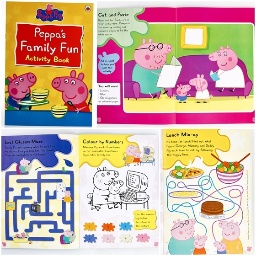Peppa: (51, 68, 94, 115), (188, 73, 215, 105), (190, 233, 208, 256)
